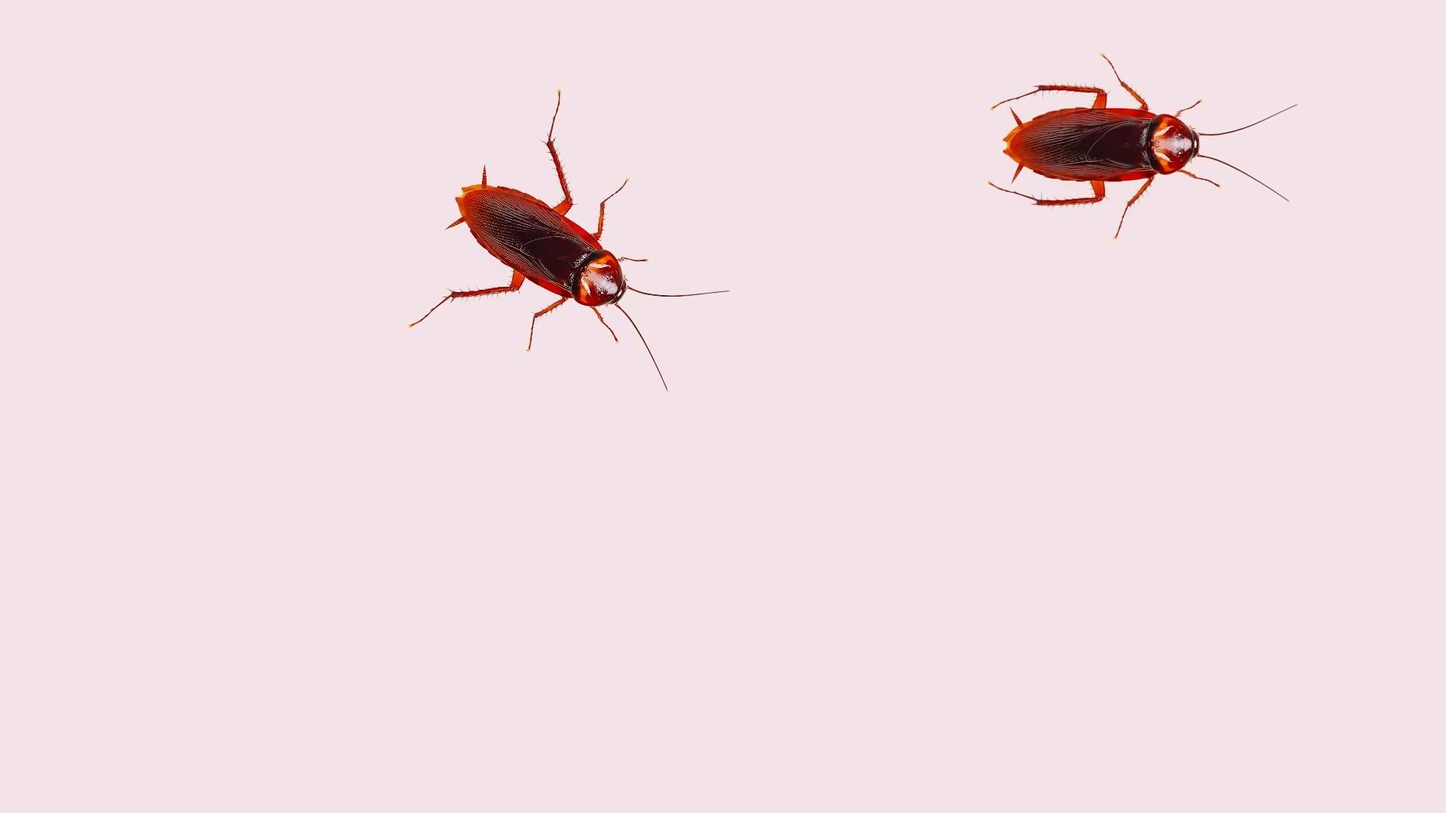cockroach: (394, 86, 731, 396), (982, 44, 1293, 245)
